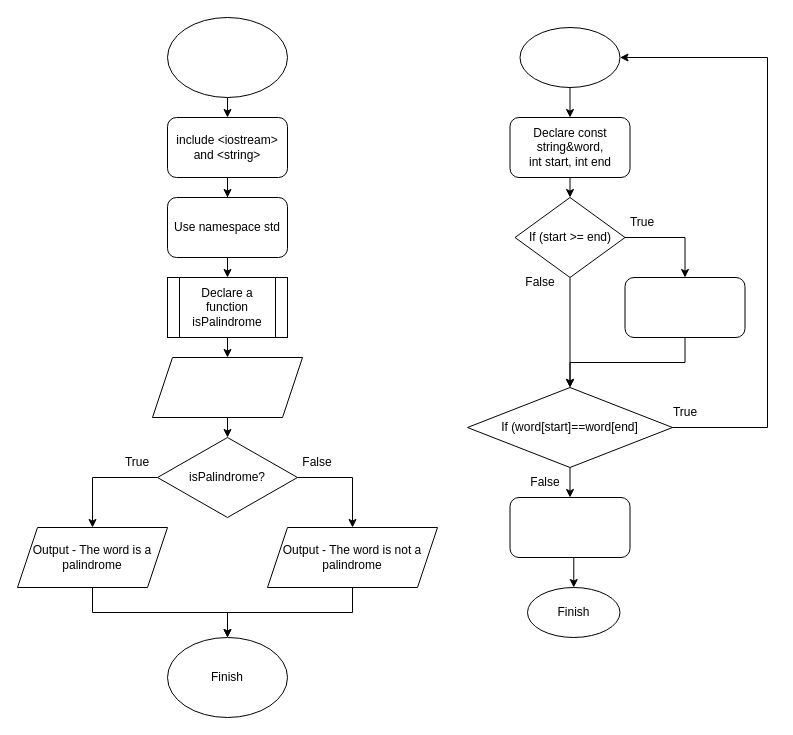
Image size: 793x735. Some labels were removed from this diagram. The shapes that lost their labels are listed below. From the top down, each one's centre as x and y in pixels, then its label:
At pixel 227 57: "Start".
At pixel 569 57: "isPalindrome".
At pixel 684 307: "Return true".
At pixel 227 387: "Input string word".
At pixel 569 527: "Return false".
